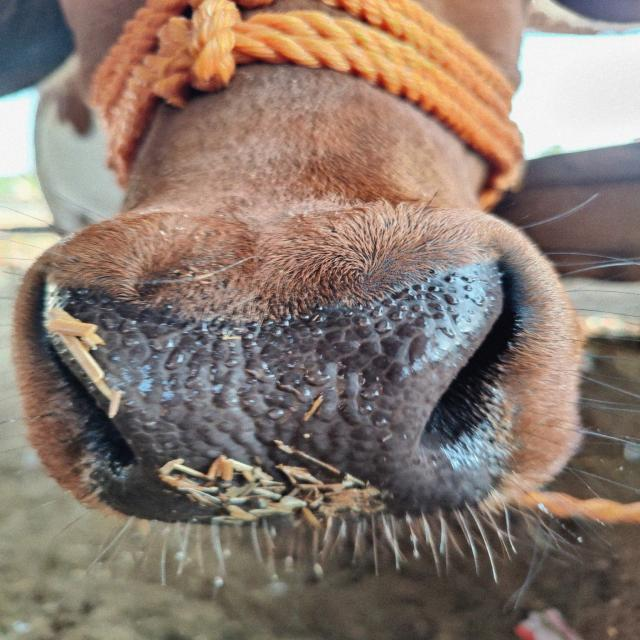muzzles: (36, 252, 531, 528)
